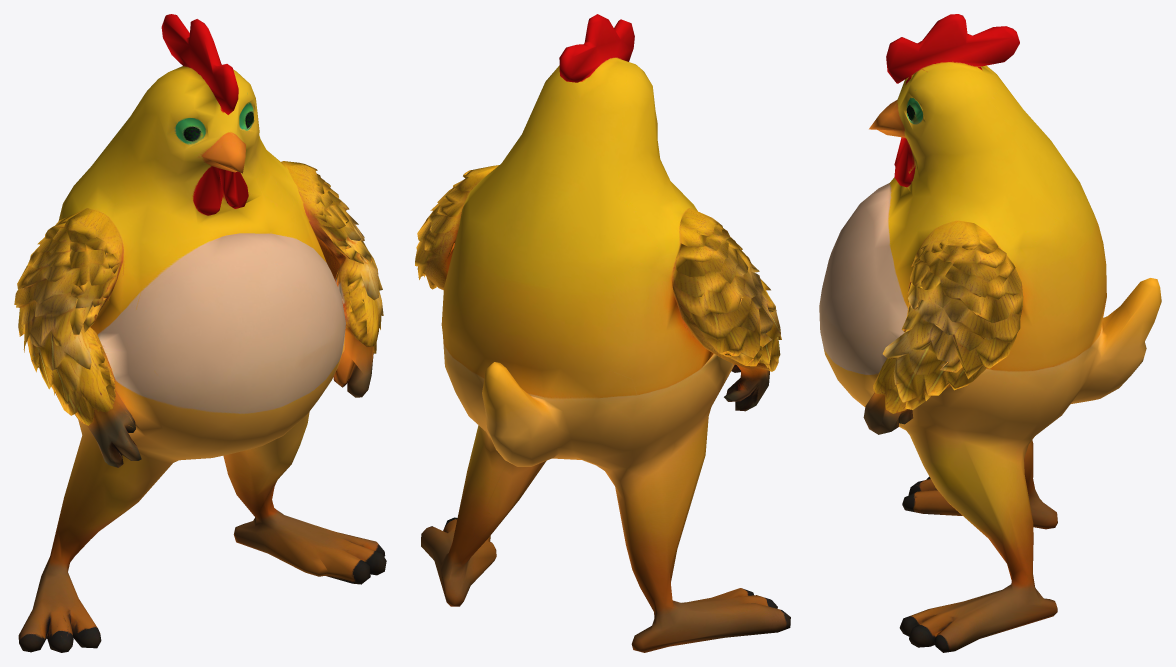
The picture shows the model from 3 angles, left to right: view 1: azimuth 30°, elevation 25°; view 2: azimuth 150°, elevation 25°; view 3: azimuth 270°, elevation 25°; orthographic projection. The views are drawn at different scales.
Visible parts, largest first — view 1: tripo_node_64147736; view 2: tripo_node_64147736; view 3: tripo_node_64147736.
Part boxes in pixels (x1=…): tripo_node_64147736: x1=14, y1=14, x2=386, y2=652; tripo_node_64147736: x1=415, y1=14, x2=790, y2=652; tripo_node_64147736: x1=819, y1=14, x2=1161, y2=652.
Bounding box in the file's own units: 0.6619 × 0.9996 × 0.5558.
1 material, 1 textured.
